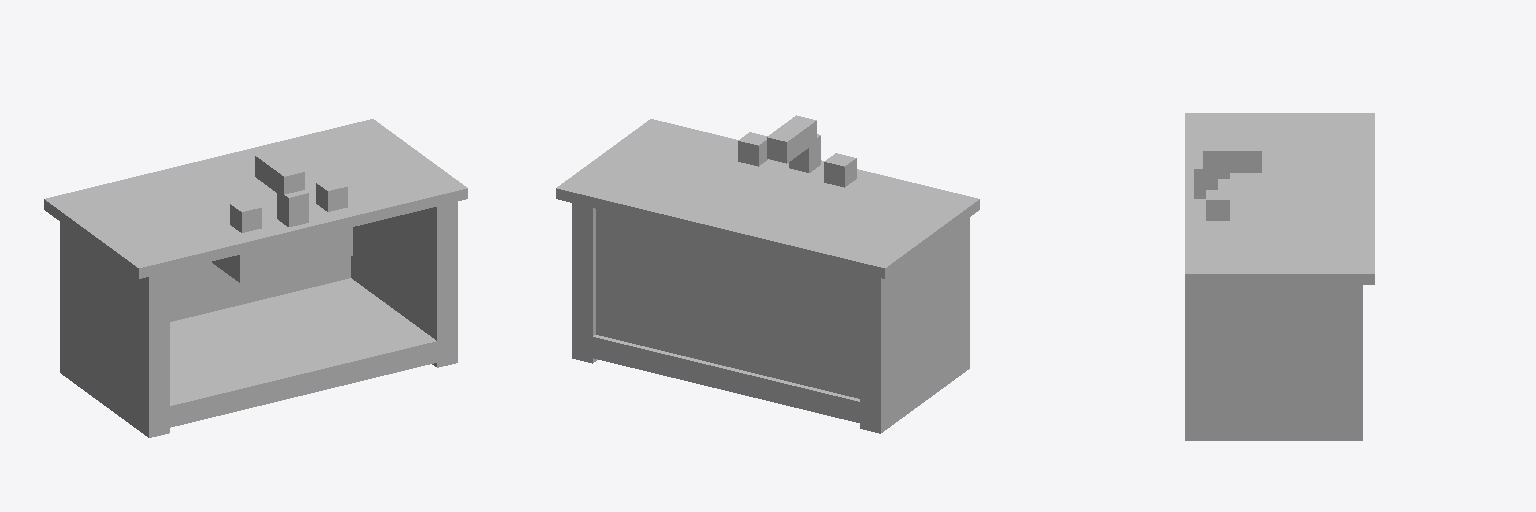
Rendered from pia_cozinha.obj.
3 views of the same model, side by side, from view 1: azimuth 30°, elevation 25°; view 2: azimuth 150°, elevation 25°; view 3: azimuth 270°, elevation 25° (orthographic).
Visible parts, largest first — view 1: cube, pia_cozinha; view 2: cube, pia_cozinha; view 3: cube.
Part boxes in pixels (left/top/right/bottom): cube: left=44, top=119, right=467, bottom=437; pia_cozinha: left=170, top=278, right=436, bottom=427; cube: left=556, top=115, right=979, bottom=433; pia_cozinha: left=593, top=335, right=859, bottom=422; cube: left=1185, top=113, right=1374, bottom=440.
Bounding box in the file's own units: 2 × 1.28 × 1.